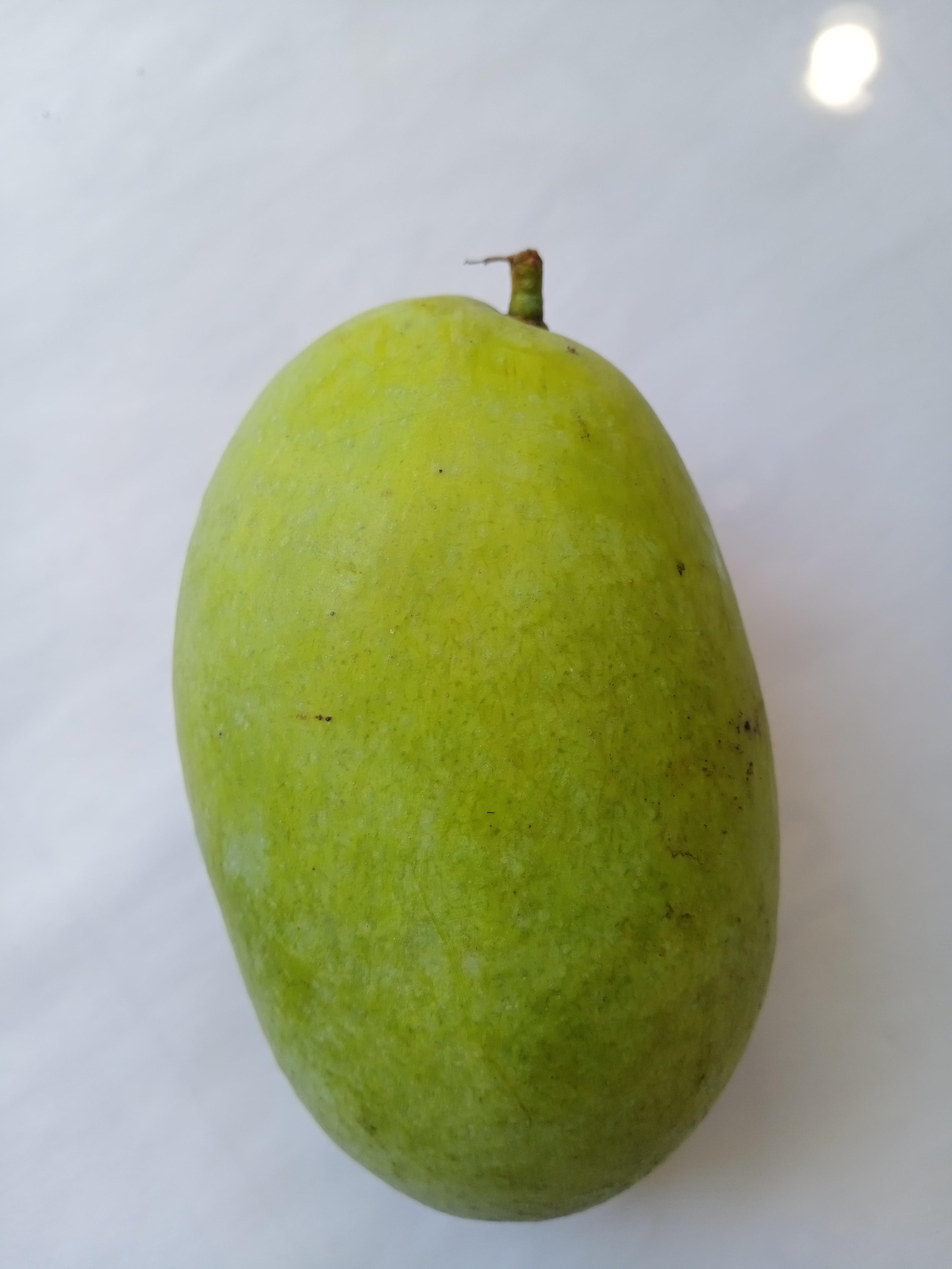Mango Unripe: (154, 234, 829, 1239)
